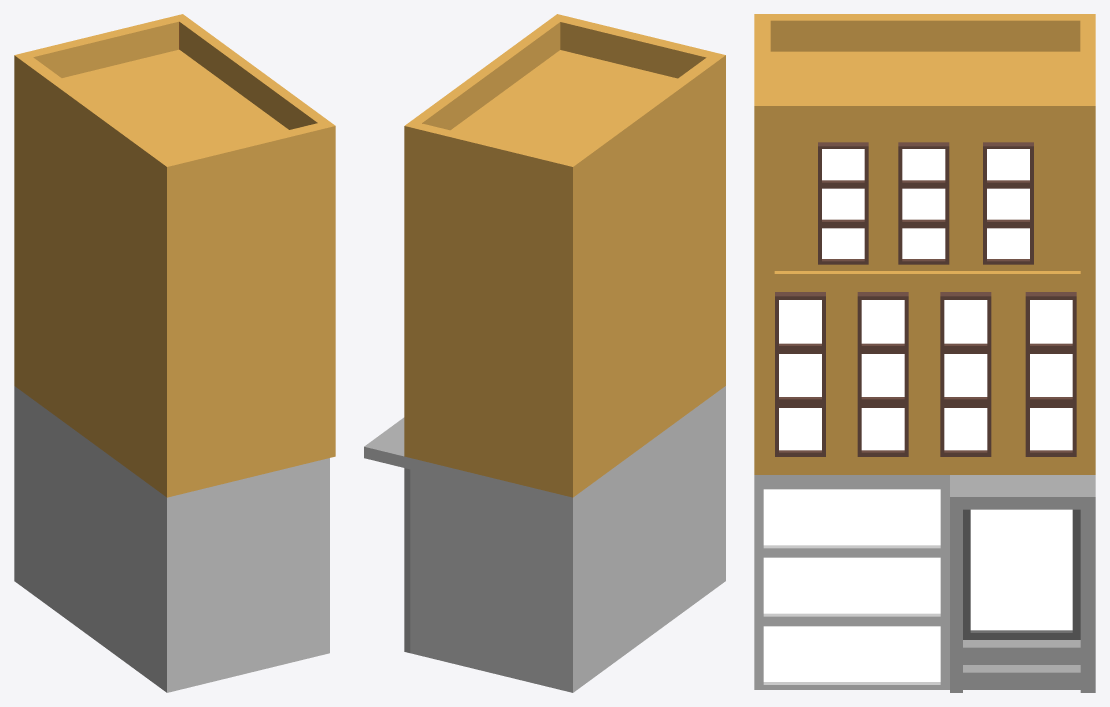
The model's file is House 3.3.fbx.
3 renders of one model, left to right at view 1: azimuth 30°, elevation 25°; view 2: azimuth 150°, elevation 25°; view 3: azimuth 270°, elevation 25°, orthographic. The views are drawn at different scales.
Visible parts, largest first — view 1: House 3.004; view 2: House 3.004; view 3: House 3.004.
Part boxes in pixels (<box>): House 3.004: <box>14,14,335,692</box>; House 3.004: <box>364,14,725,692</box>; House 3.004: <box>754,14,1095,692</box>.
Size of the model in its own units: 725 by 1743 by 919.
